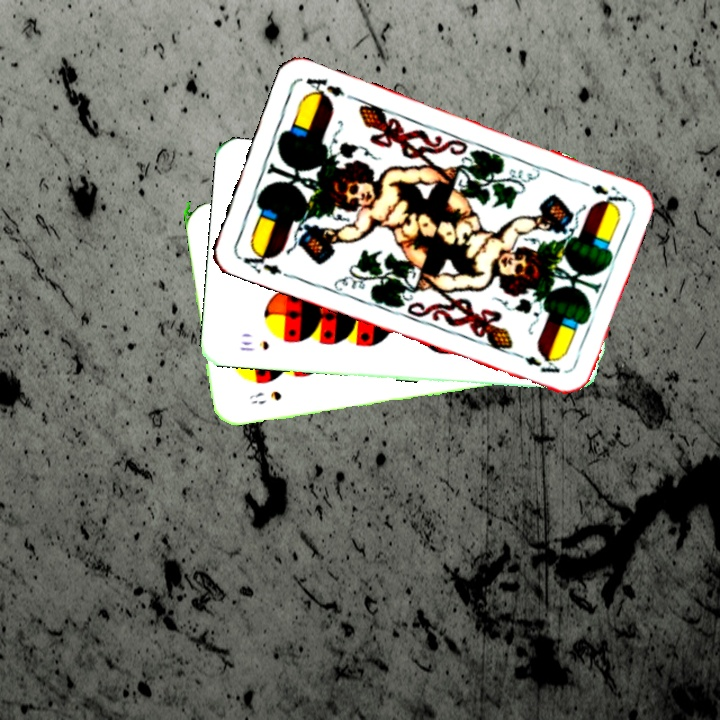EA: (236, 244, 293, 281), (573, 175, 630, 209)
S10: (236, 337, 272, 354)
S8: (245, 387, 284, 407)
